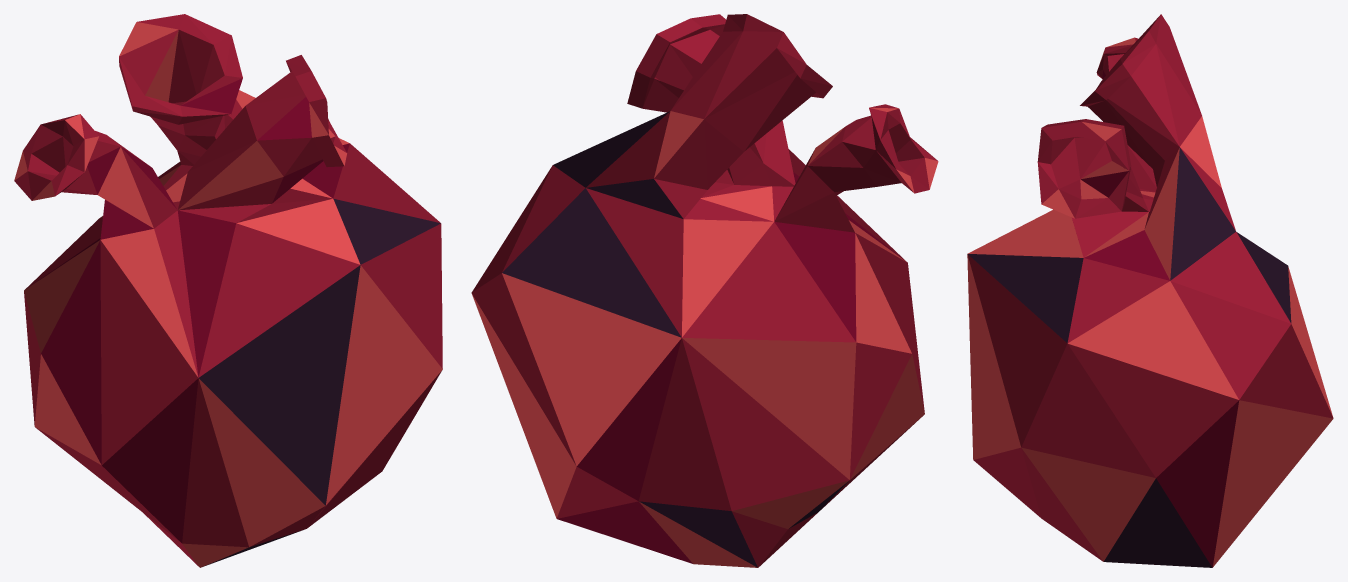
The model's file is Heart_Slow_02.fbx.
3 views of the same model, side by side, from view 1: azimuth 30°, elevation 25°; view 2: azimuth 150°, elevation 25°; view 3: azimuth 270°, elevation 25° (orthographic). The views are drawn at different scales.
Visible parts, largest first — view 1: geo_heart; view 2: geo_heart; view 3: geo_heart.
Part boxes in pixels (<box>): geo_heart: <box>14,14,442,567</box>; geo_heart: <box>471,14,938,567</box>; geo_heart: <box>967,14,1333,567</box>.
Size of the model in its own units: 103 by 139 by 90.27.
